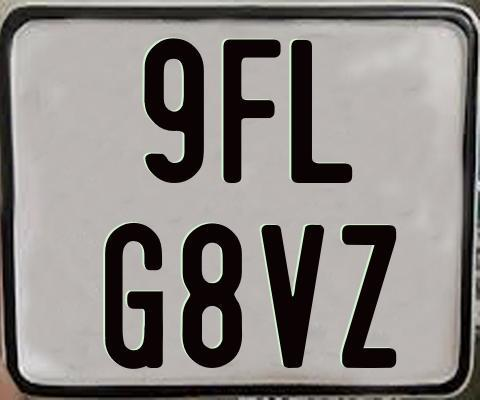8: (179, 223, 242, 368)
9: (141, 38, 205, 187)
F: (222, 36, 286, 183)
G: (104, 222, 163, 373)
L: (288, 40, 355, 183)
V: (258, 225, 321, 374)
Z: (341, 224, 400, 368)
